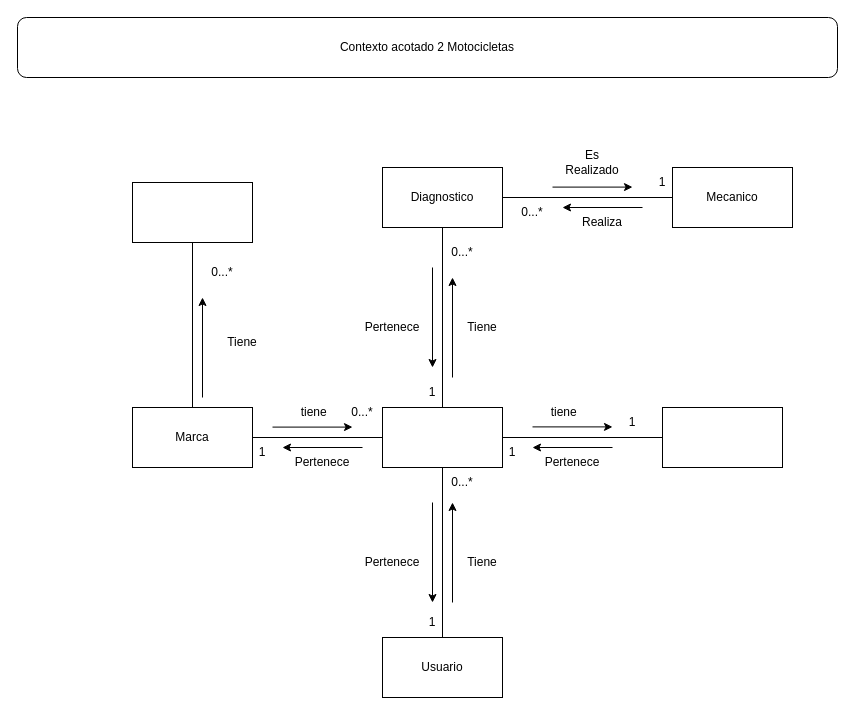
Some shapes in this 855 by 715 pixel diagram are drawn without their labels. Each missing label, with the centre of its shape:
"Cilindrada" goes at point 722,437.
"Modelo" goes at point 192,212.
"Motocicleta" goes at point 442,437.
